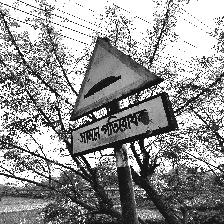Speed-breaker: (68, 37, 176, 159)
